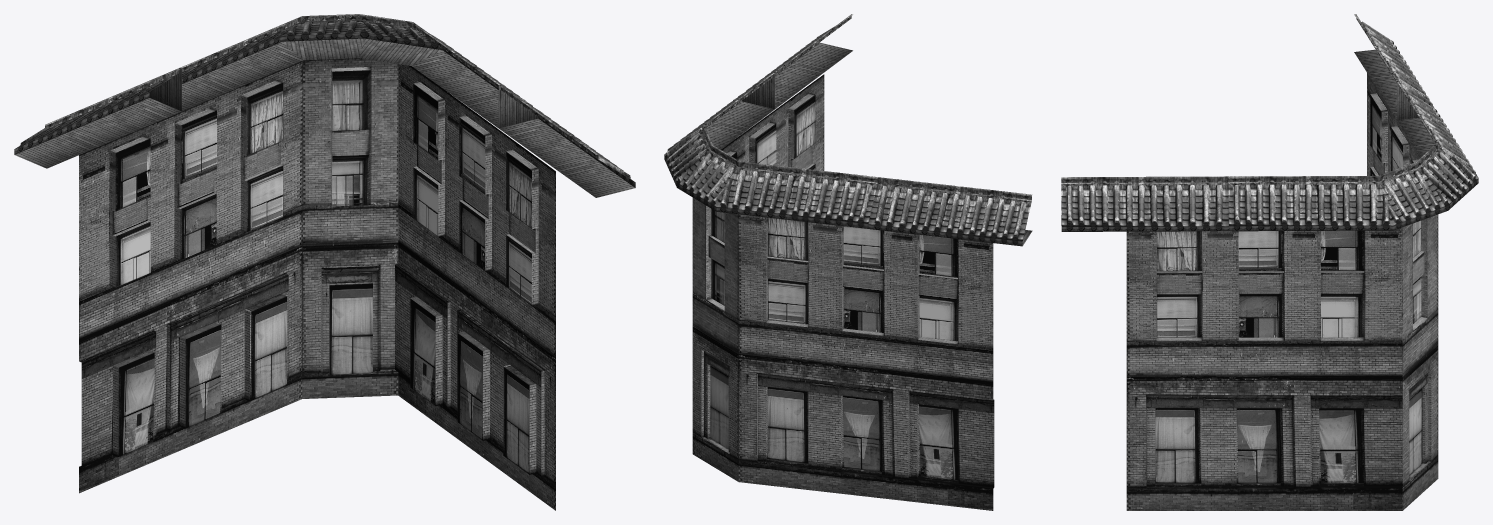
The model's file is chinatown_building_6.fbx.
3 renders of one model, left to right at view 1: azimuth 30°, elevation 25°; view 2: azimuth 150°, elevation 25°; view 3: azimuth 270°, elevation 25°, orthographic. The views are drawn at different scales.
Parts seen in each view (by area): view 1: chinatown_building_6; view 2: chinatown_building_6; view 3: chinatown_building_6.
Boxes of the visible parts, x1,y1,x2,y2 form: chinatown_building_6: [14, 14, 635, 510]; chinatown_building_6: [664, 14, 1032, 510]; chinatown_building_6: [1061, 14, 1478, 510].
Size of the model in its own units: 1404 by 1189 by 1344.
